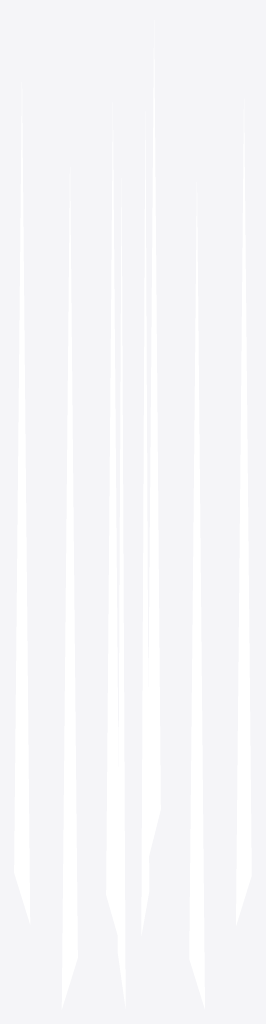
Rendered from cannon2.glb.
3 renders of one model, left to right at view 1: azimuth 90°, elevation 25°; view 2: azimuth 210°, elevation 25°; view 3: azimuth 270°, elevation 25°, orthographic. The views are drawn at different scales.
Visible parts, largest first — view 1: group_13; view 2: group_13; view 3: group_13.
Boxes of the visible parts, box(x1,y1,x2,y2) form: group_13: box(14, 82, 77, 1009); group_13: box(106, 20, 160, 1008); group_13: box(189, 99, 251, 1008).
Bounding box in the file's own units: 162 × 2818 × 162.
1 material, 1 textured.
